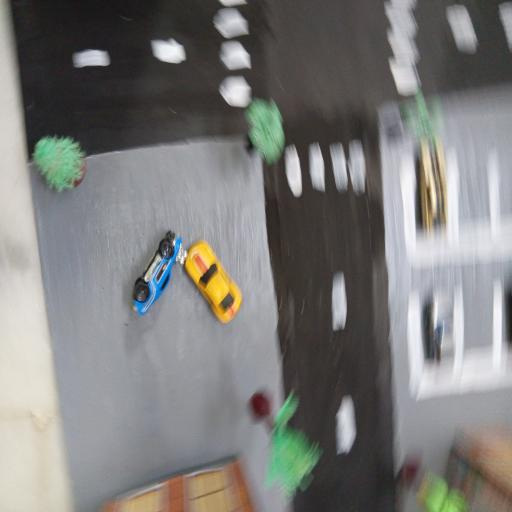car crash: (130, 227, 244, 327)
